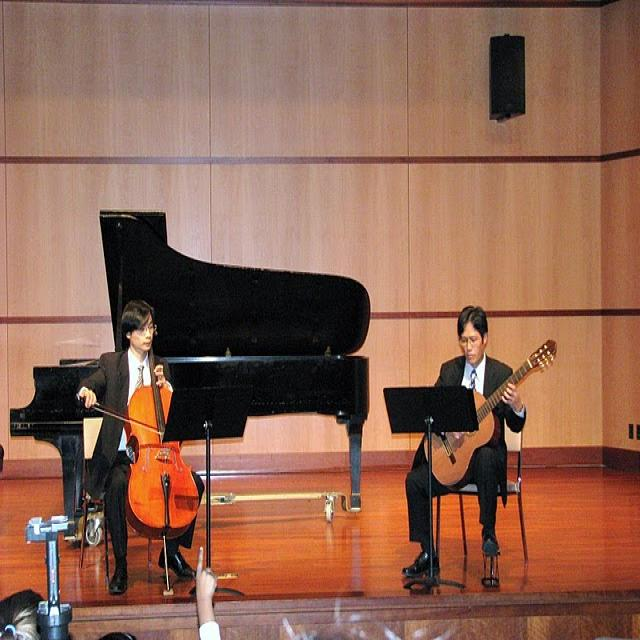cello: (123, 316, 200, 537)
guitar: (421, 338, 560, 483)
